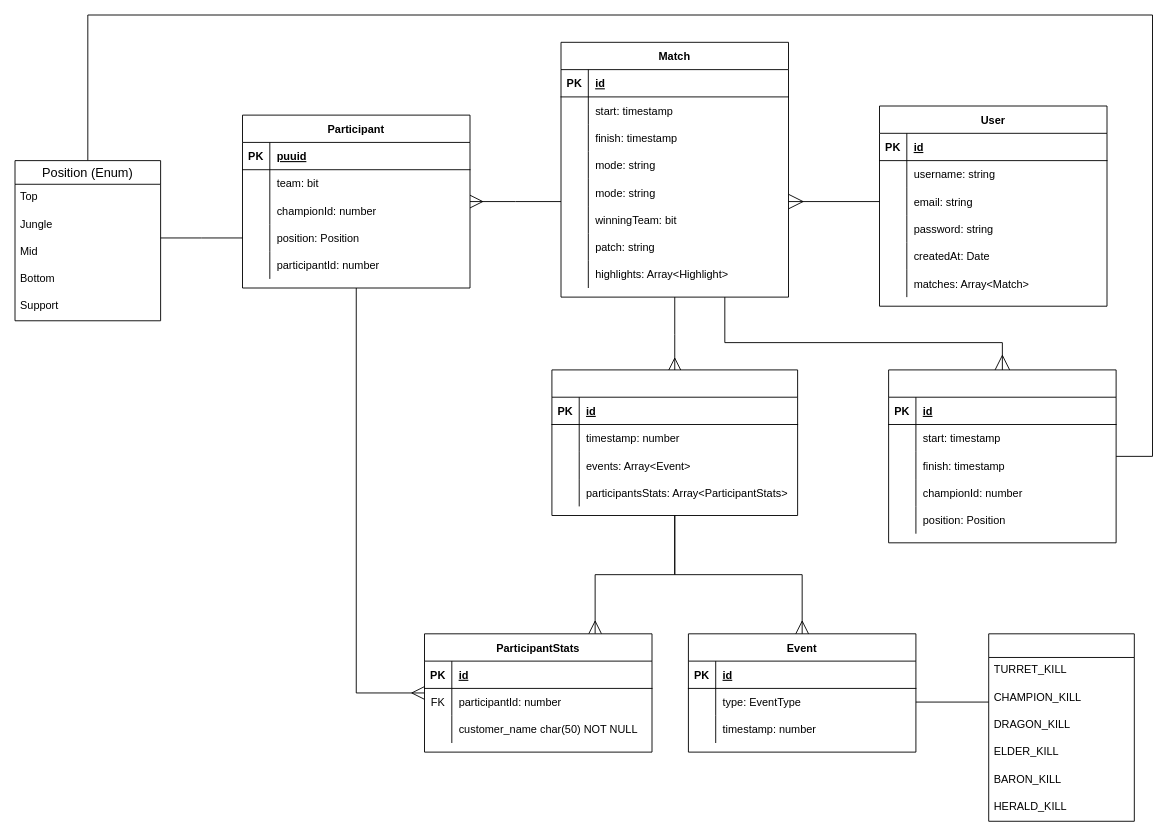
Some shapes in this 1168 by 836 pixel diagram are drawn without their labels. Here are the shapes that lost their labels. From the top down, the box of each, then its label:
(551, 369, 798, 516): Frame
(888, 369, 1116, 543): Highlight
(988, 633, 1134, 821): EventType (Enum)
